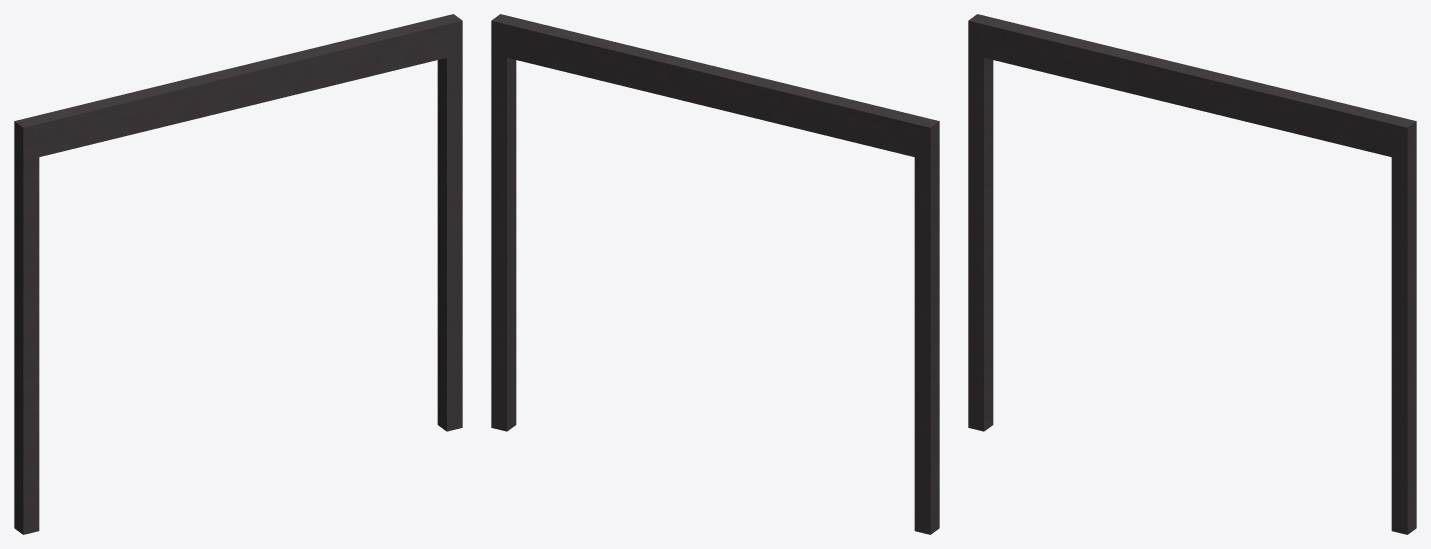
File: hyr-frame_h22-w27_kyoumachiyakakicha.fbx
3 renders of one model, left to right at view 1: azimuth 30°, elevation 25°; view 2: azimuth 150°, elevation 25°; view 3: azimuth 330°, elevation 25°, orthographic.
Parts seen in each view (by area): view 1: hyr-frame_h22-w27_kyoumachiyakakicha; view 2: hyr-frame_h22-w27_kyoumachiyakakicha; view 3: hyr-frame_h22-w27_kyoumachiyakakicha.
Boxes of the visible parts, bbox=[...] form: hyr-frame_h22-w27_kyoumachiyakakicha: bbox=[14, 14, 462, 534]; hyr-frame_h22-w27_kyoumachiyakakicha: bbox=[491, 14, 939, 534]; hyr-frame_h22-w27_kyoumachiyakakicha: bbox=[968, 14, 1416, 534].
Bounding box in the file's own units: 277 × 245 × 10.
1 material, 1 textured.
